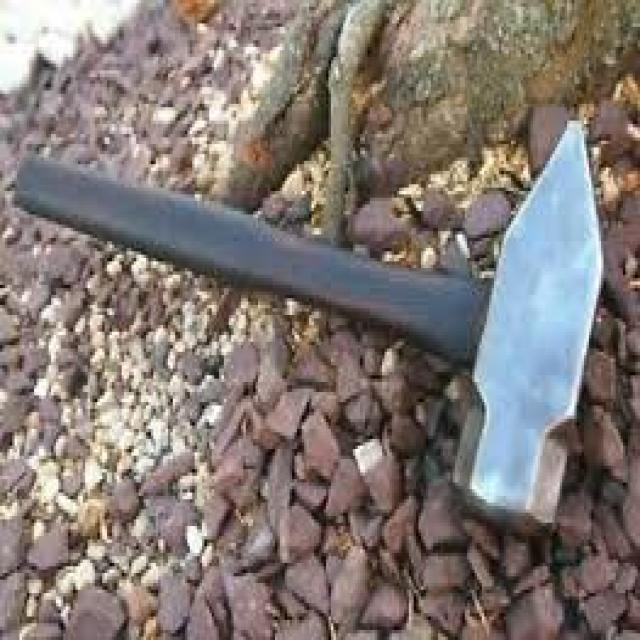hammer: (11, 113, 612, 550)
